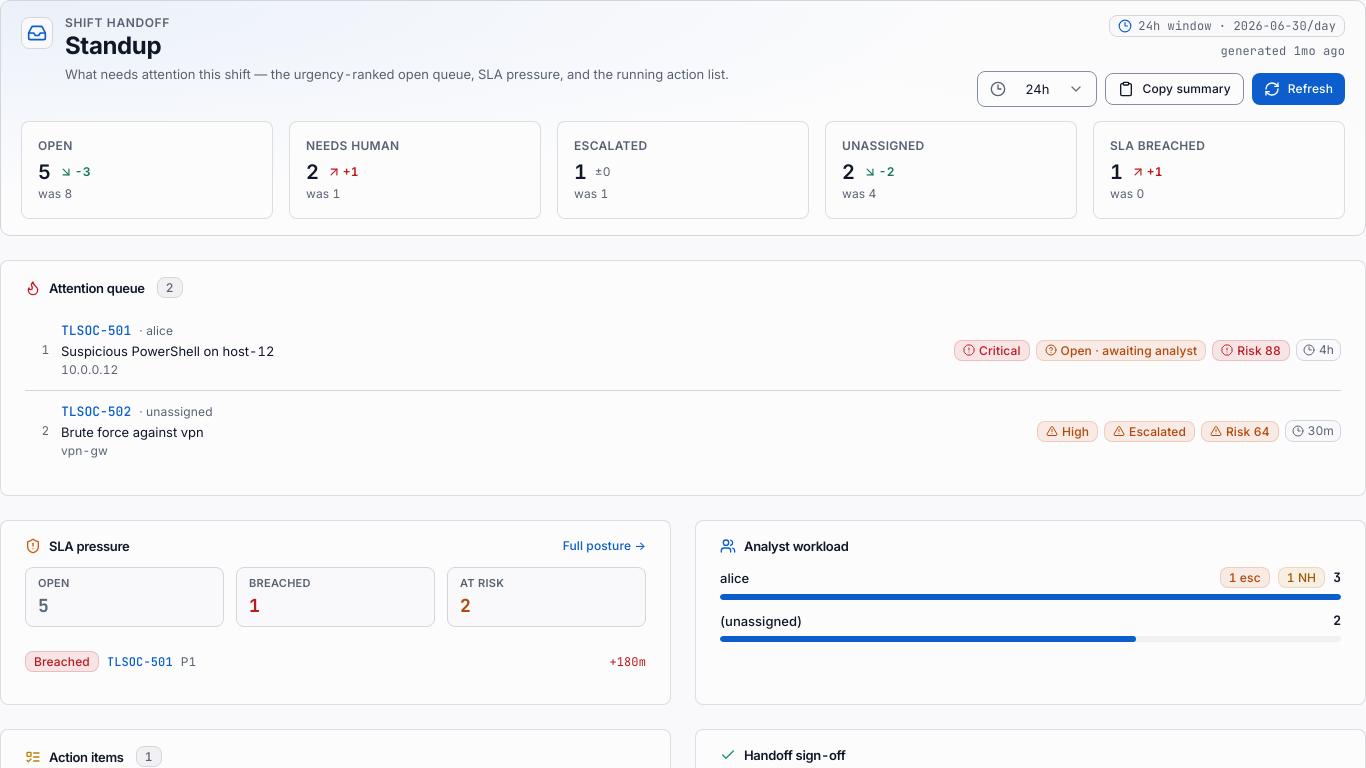
Standup shift handoff (Round 3 / F11) › shows + wires the Copy summary button when a clipboard is available
Click the button with aria-label "copy the shift summary": click(1175, 89) left=1106, top=73, right=1244, bottom=105
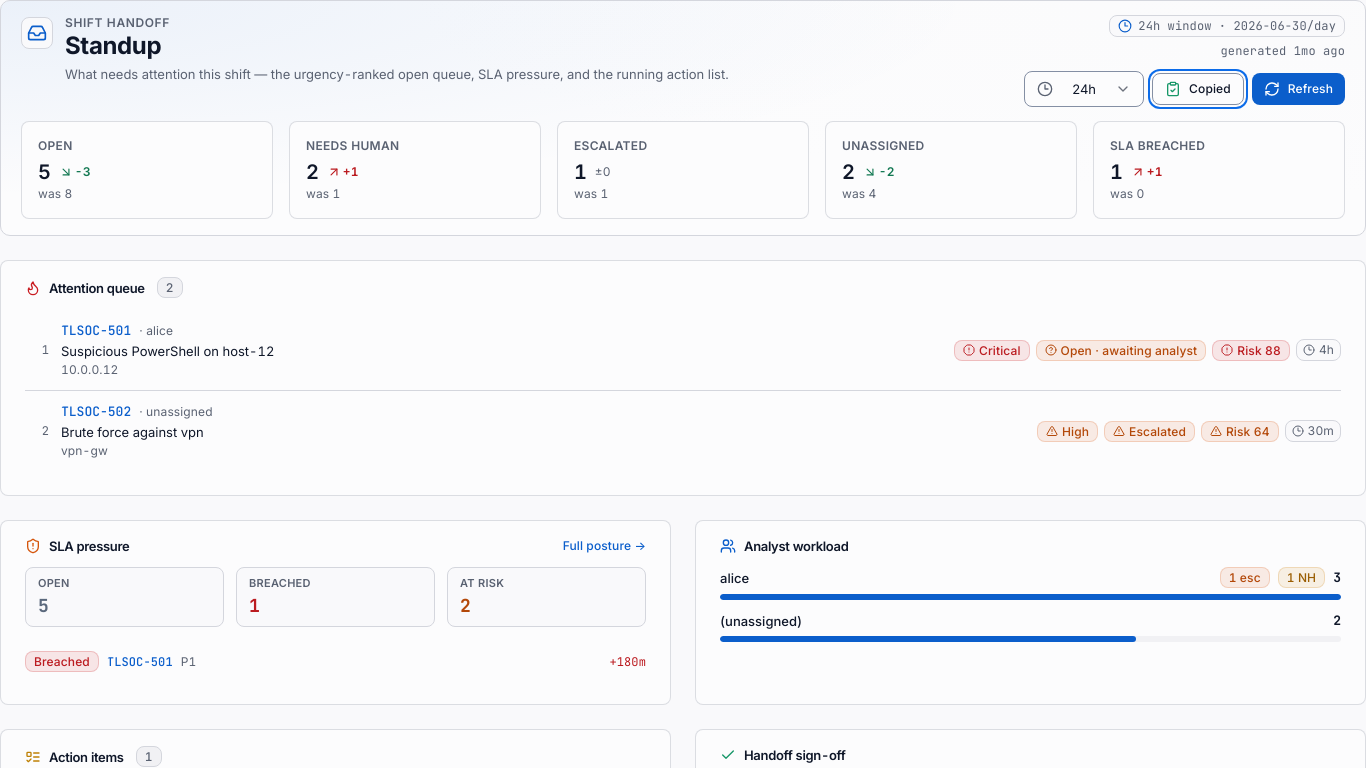
expect the button with aria-label "copy the shift summary" reads "Copied": met, box left=1152, top=73, right=1244, bottom=105
